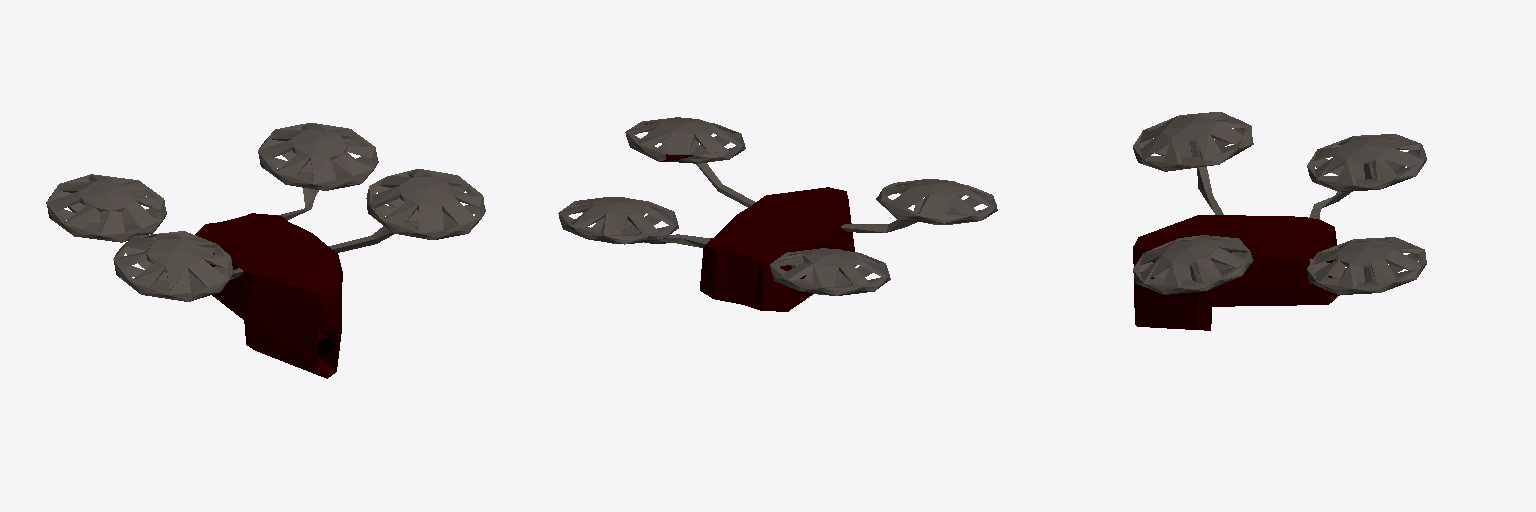
Rendered from Drone.obj.
3 views of the same model, side by side, from view 1: azimuth 30°, elevation 25°; view 2: azimuth 150°, elevation 25°; view 3: azimuth 270°, elevation 25° (orthographic).
Parts seen in each view (by area): view 1: Plane.001_Plane.030; view 2: Plane.001_Plane.030; view 3: Plane.001_Plane.030.
Boxes of the visible parts, <box> form: Plane.001_Plane.030: <box>46,123,485,378</box>; Plane.001_Plane.030: <box>558,117,997,311</box>; Plane.001_Plane.030: <box>1133,112,1426,330</box>.
Bounding box in the file's own units: 3.2 × 1.22 × 2.3.